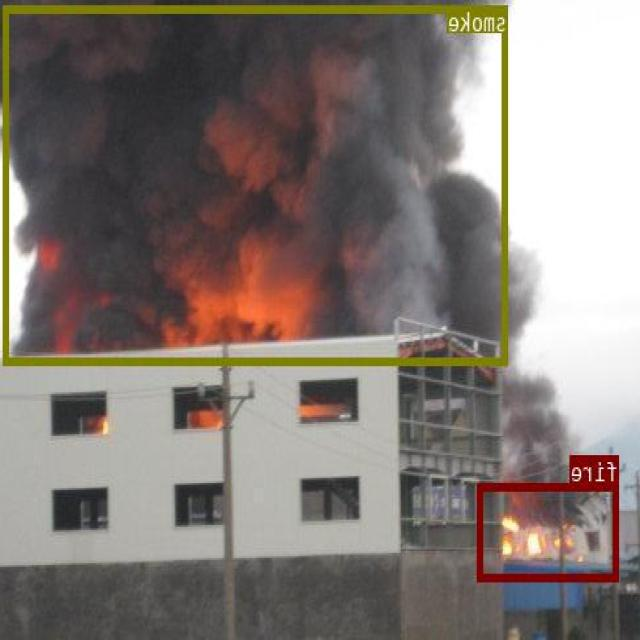fire: (479, 482, 620, 580)
smoke: (4, 5, 509, 363)
